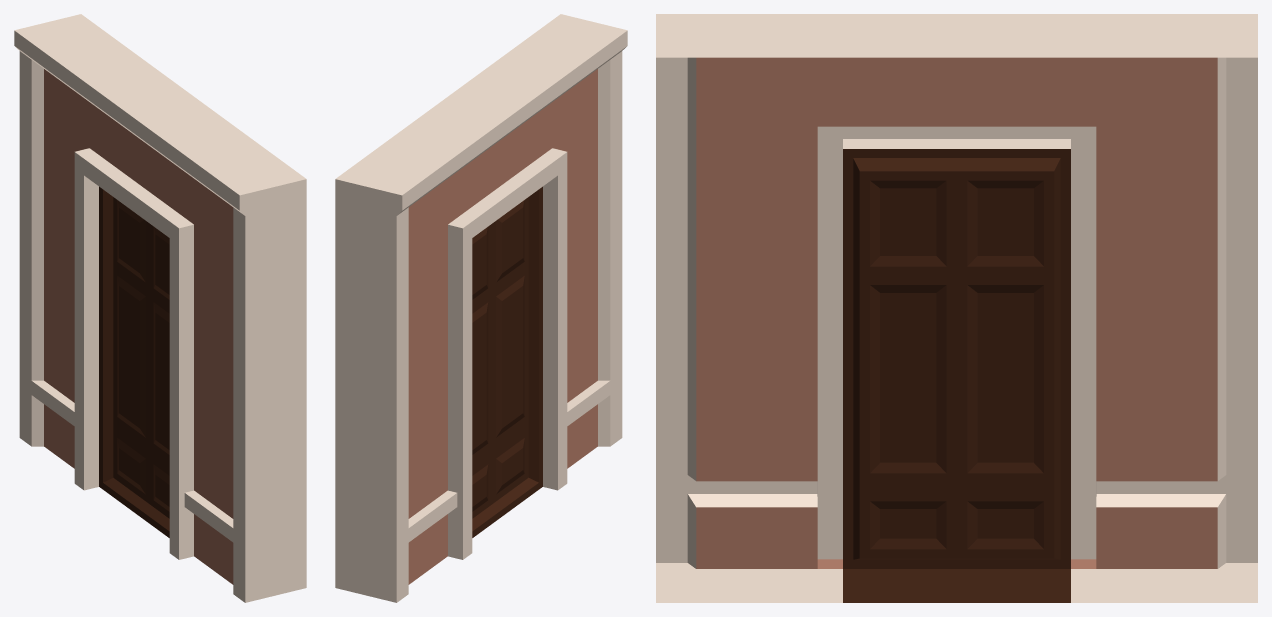
File: O_V_F_Type7_Door.fbx
3 renders of one model, left to right at view 1: azimuth 30°, elevation 25°; view 2: azimuth 150°, elevation 25°; view 3: azimuth 270°, elevation 25°, orthographic. The views are drawn at different scales.
Parts seen in each view (by area): view 1: Box048; view 2: Box048; view 3: Box048.
Boxes of the visible parts, left/top/right/bottom form: Box048: left=14, top=14, right=306, bottom=602; Box048: left=335, top=14, right=627, bottom=602; Box048: left=656, top=14, right=1257, bottom=602.
Size of the model in its own units: 0.5158 by 3 by 3.
